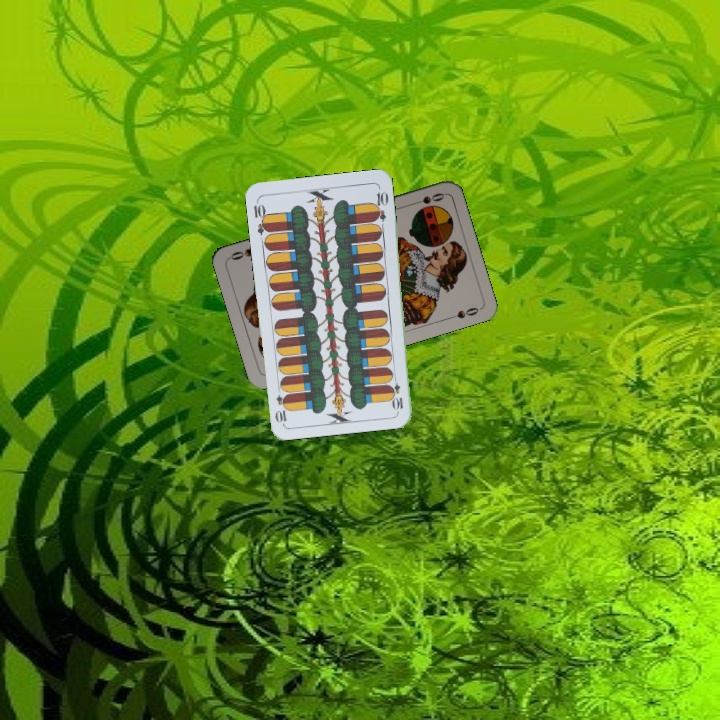E10: (250, 196, 271, 237), (388, 372, 406, 412)
SO: (407, 189, 447, 208)
